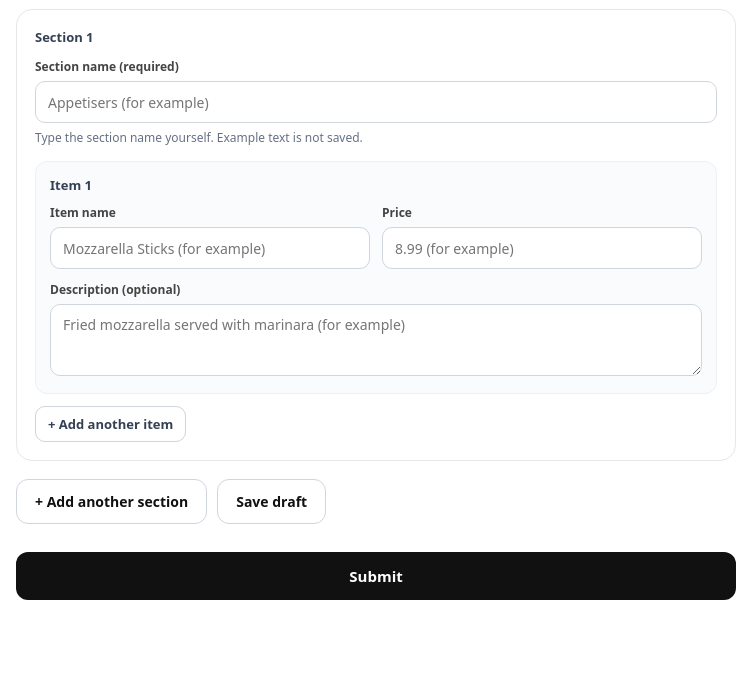
Test: ManualMenuEntryPage › validates required fields on submit
(page scrolled)
Click the button "Submit".
click(376, 576)  # box [16, 552, 736, 600]
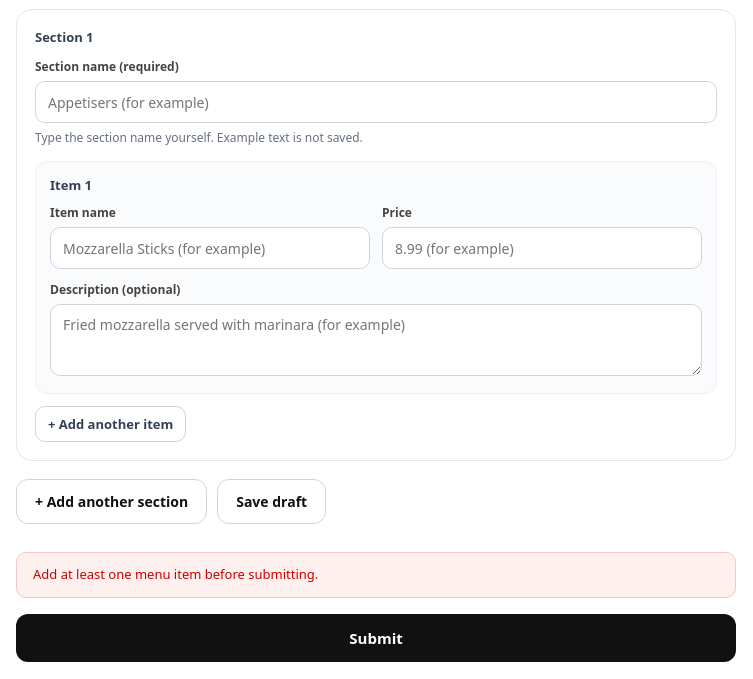
Now the text "Add at least one menu item before submitting." is shown, box [16, 552, 736, 598]
